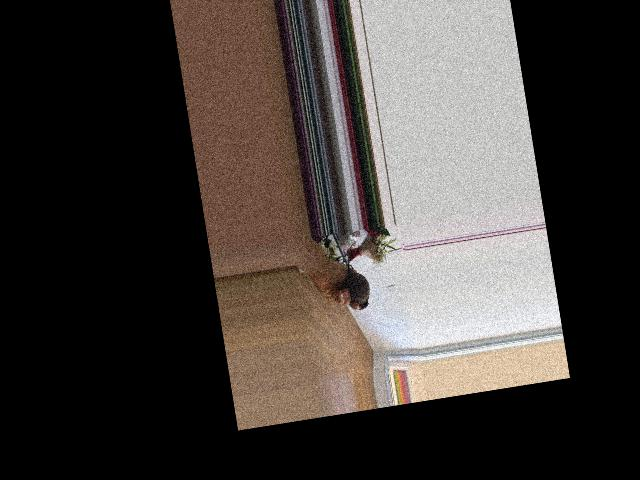beet: (339, 241, 372, 311)
